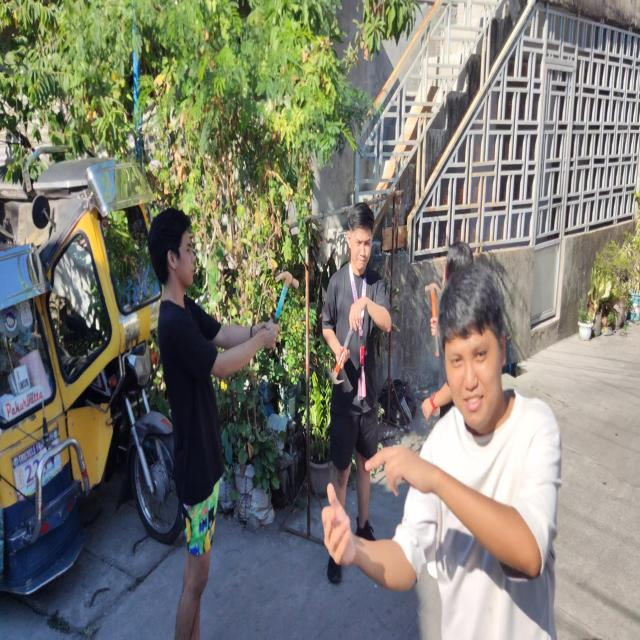hammer: (265, 271, 299, 356), (325, 322, 354, 384), (425, 283, 441, 357)
